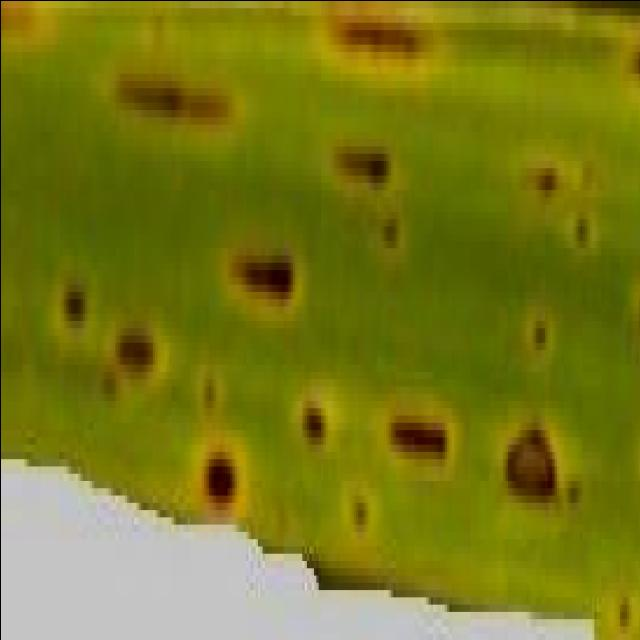Brown_Spot: (486, 422, 591, 531), (98, 80, 240, 160), (317, 0, 446, 88), (217, 233, 299, 342), (182, 422, 248, 553), (322, 138, 407, 226), (383, 408, 460, 488), (288, 378, 332, 516), (112, 320, 166, 392), (369, 204, 404, 306), (0, 0, 44, 80), (46, 284, 84, 372), (518, 312, 560, 378), (338, 472, 366, 560), (563, 218, 593, 284), (528, 160, 556, 226), (623, 284, 640, 372), (628, 29, 640, 109), (612, 596, 630, 640), (633, 414, 640, 502)
